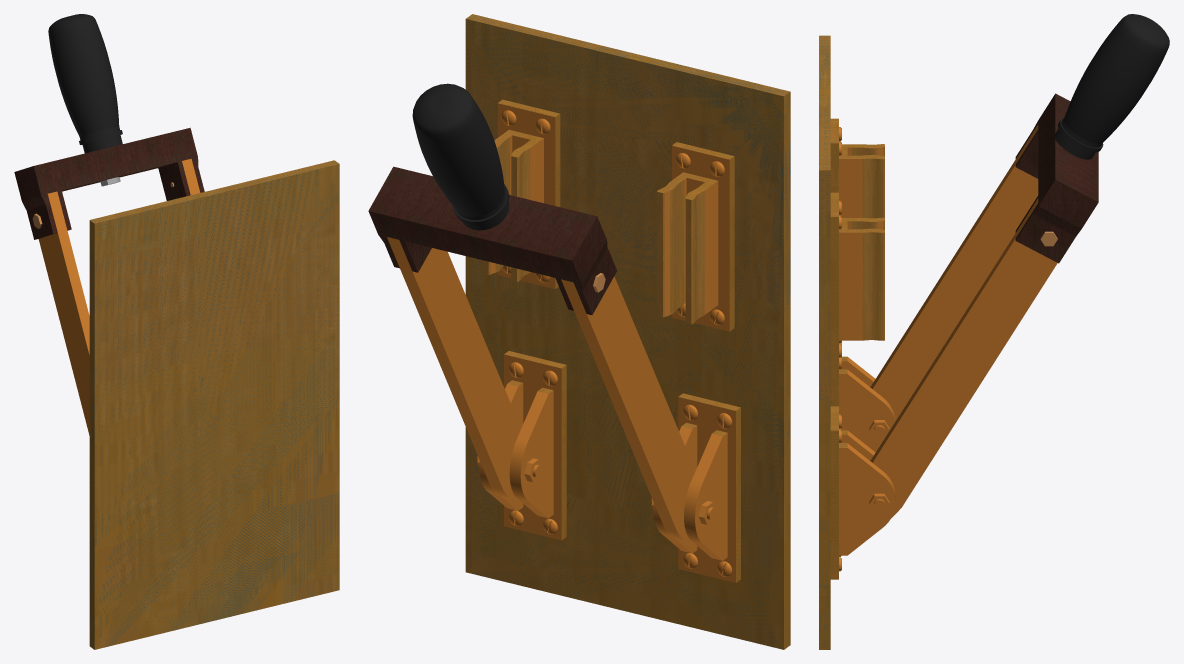
File: knifeswitch4.dae
3 renders of one model, left to right at view 1: azimuth 30°, elevation 25°; view 2: azimuth 150°, elevation 25°; view 3: azimuth 270°, elevation 25°, orthographic. The views are drawn at different scales.
Parts seen in each view (by area): view 1: Model, Handle, Throw; view 2: Model, Handle, Throw (×2), Switchbase (×2), Pole (×2); view 3: Throw (×2), Handle, Pole (×2), Switchbase (×2), Model.
Boxes of the visible parts, x1,y1,x2,y2 form: Model: (89,160,339,649); Handle: (14,14,204,239); Throw: (38,191,89,435); Model: (465,14,790,649); Handle: (368,83,616,314); Throw (×2): (387,237,695,540); Switchbase (×2): (477,351,740,582); Pole (×2): (482,99,734,331); Throw (×2): (870,124,1057,518); Handle: (1015,14,1169,263); Pole (×2): (830,118,884,365); Switchbase (×2): (830,356,895,579); Model: (819,35,830,649).
Size of the model in its own units: 10.5 by 11.56 by 20.54.
9 materials, 2 textured.
